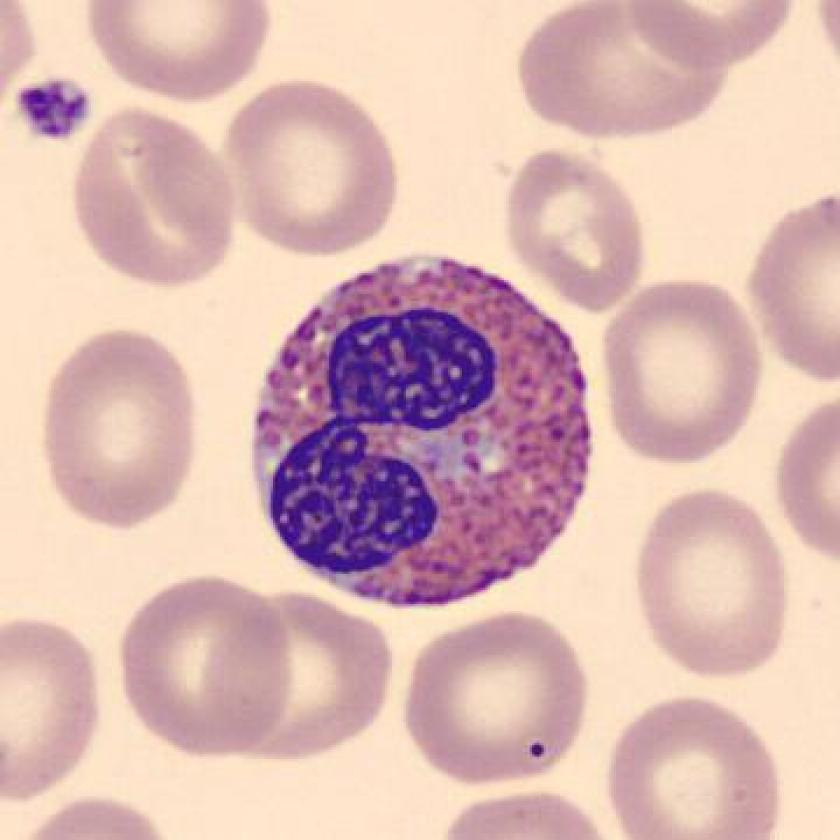eosinophil: (239, 244, 608, 617)
